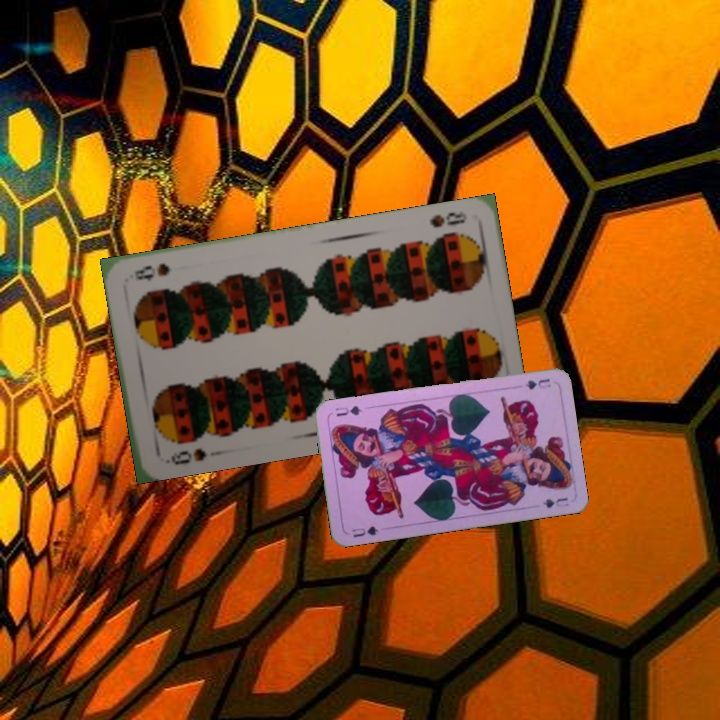GU: (348, 522, 381, 540), (521, 375, 553, 392)
S8: (161, 444, 208, 467), (425, 207, 468, 231)
